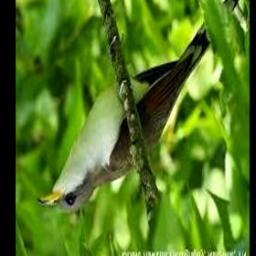Cuckoo: (37, 0, 239, 212)
